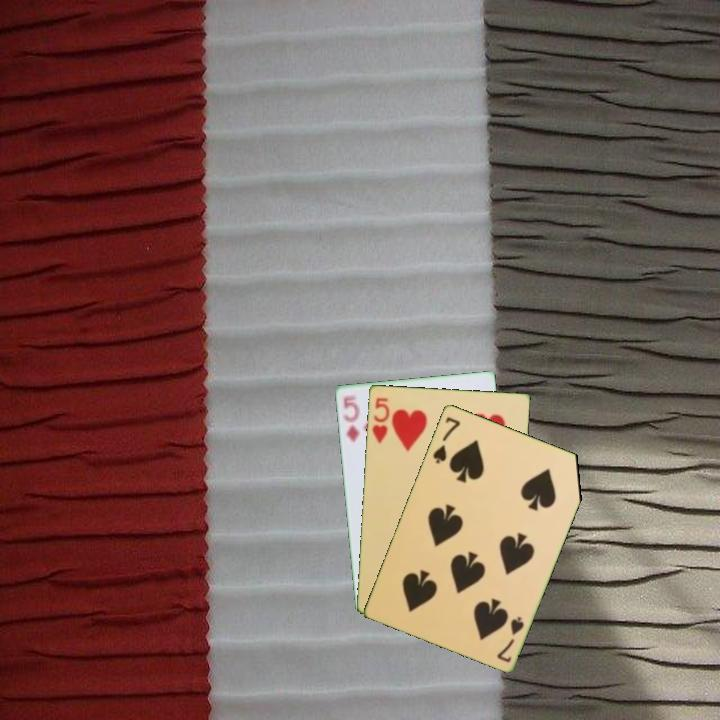5d: (339, 390, 362, 445)
5h: (368, 394, 392, 446)
7s: (429, 413, 463, 466), (493, 612, 527, 665)
